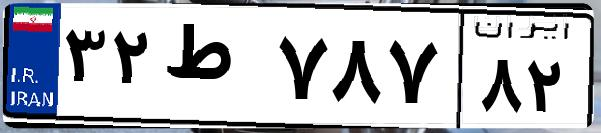2: (525, 38, 570, 115), (110, 28, 158, 98)
3: (57, 26, 110, 100)
7: (270, 28, 330, 110), (385, 28, 445, 110)
8: (330, 28, 385, 110), (475, 38, 525, 113)
ط: (158, 20, 270, 120)
